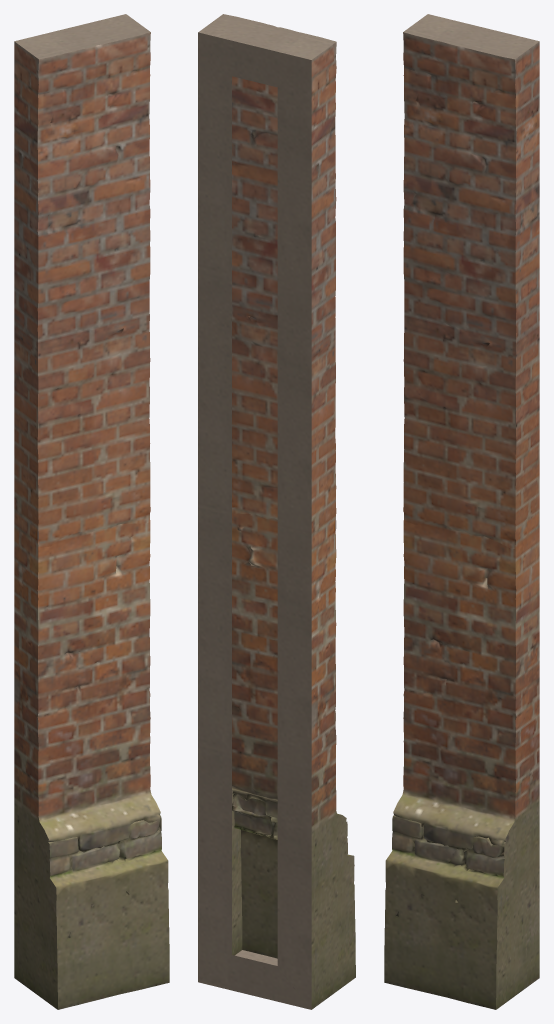
File: modular_wall_2.fbx
3 views of the same model, side by side, from view 1: azimuth 30°, elevation 25°; view 2: azimuth 150°, elevation 25°; view 3: azimuth 330°, elevation 25° (orthographic).
Visible parts, largest first — view 1: modular_wall_2; view 2: modular_wall_2; view 3: modular_wall_2.
Part boxes in pixels (x1,y1,x2,y2): modular_wall_2: [14, 14, 169, 1009]; modular_wall_2: [198, 14, 355, 1009]; modular_wall_2: [384, 14, 539, 1009].
Size of the model in its own units: 50 by 400 by 33.83.
